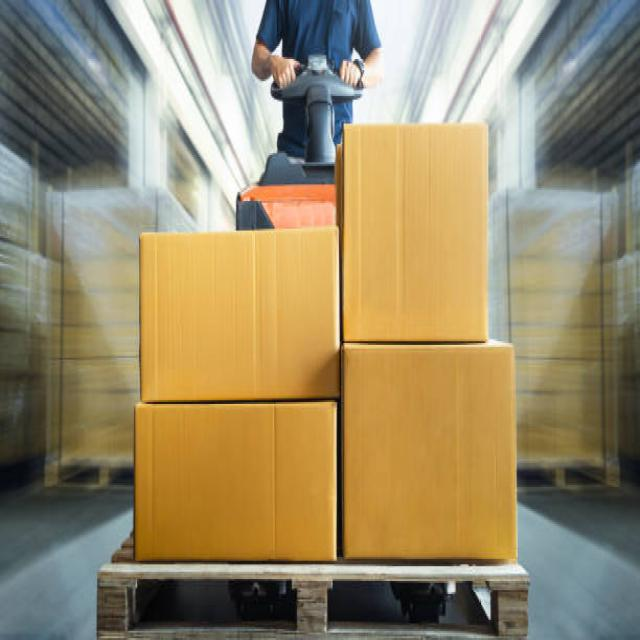Wooden-Pallets: (95, 564, 537, 638)
